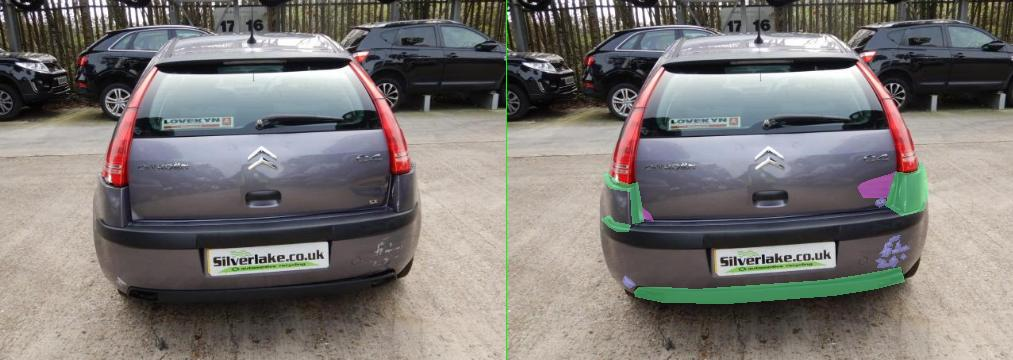Broken part: (254, 267, 795, 303), (757, 161, 843, 215), (192, 172, 272, 223), (188, 215, 246, 231)
Dent: (701, 171, 779, 197), (262, 204, 292, 220)
Scratch: (737, 255, 783, 267), (745, 241, 771, 256), (230, 275, 256, 288), (771, 245, 805, 253), (737, 198, 759, 207), (765, 235, 787, 242), (777, 240, 787, 248), (787, 253, 799, 259)
